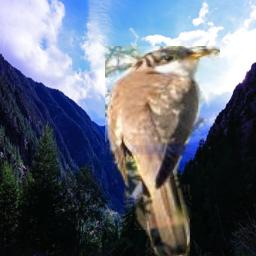Cuckoo: (105, 46, 220, 256)
